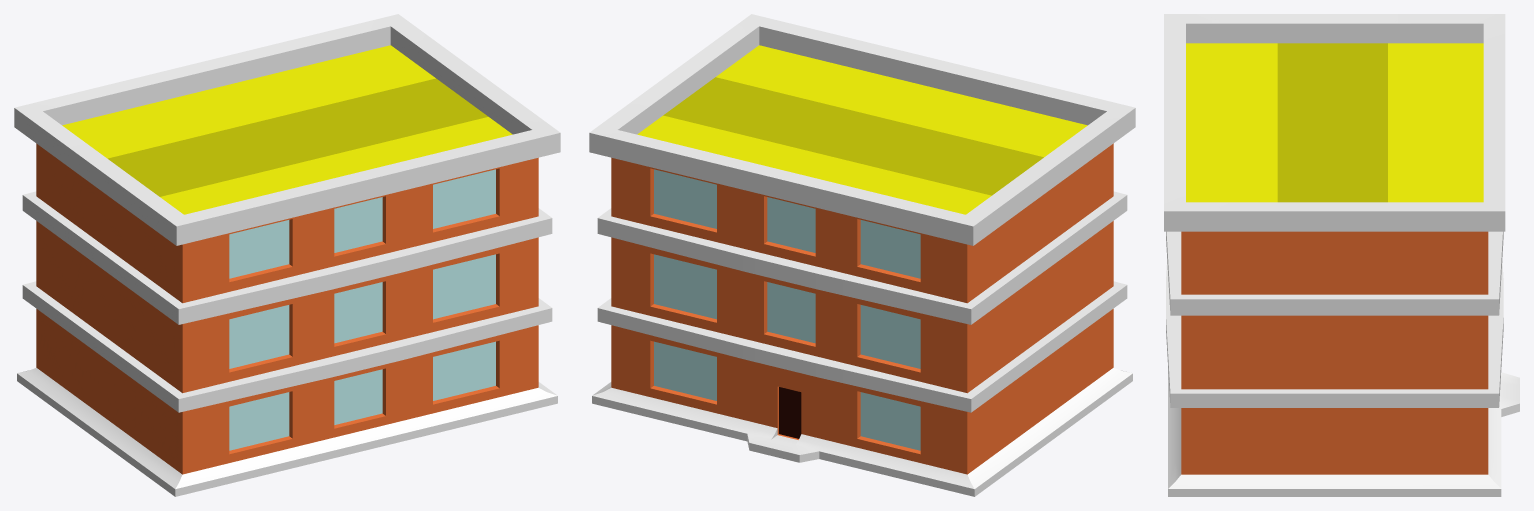
Rendered from Bld_3.fbx.
3 renders of one model, left to right at view 1: azimuth 30°, elevation 25°; view 2: azimuth 150°, elevation 25°; view 3: azimuth 270°, elevation 25°, orthographic. The views are drawn at different scales.
Visible parts, largest first — view 1: building; view 2: building; view 3: building.
Boxes of the visible parts, box(x1,y1,x2,y2) form: building: box(14, 14, 560, 496); building: box(589, 14, 1135, 496); building: box(1164, 14, 1519, 496).
Size of the model in its own units: 1496 by 1013 by 1141.
